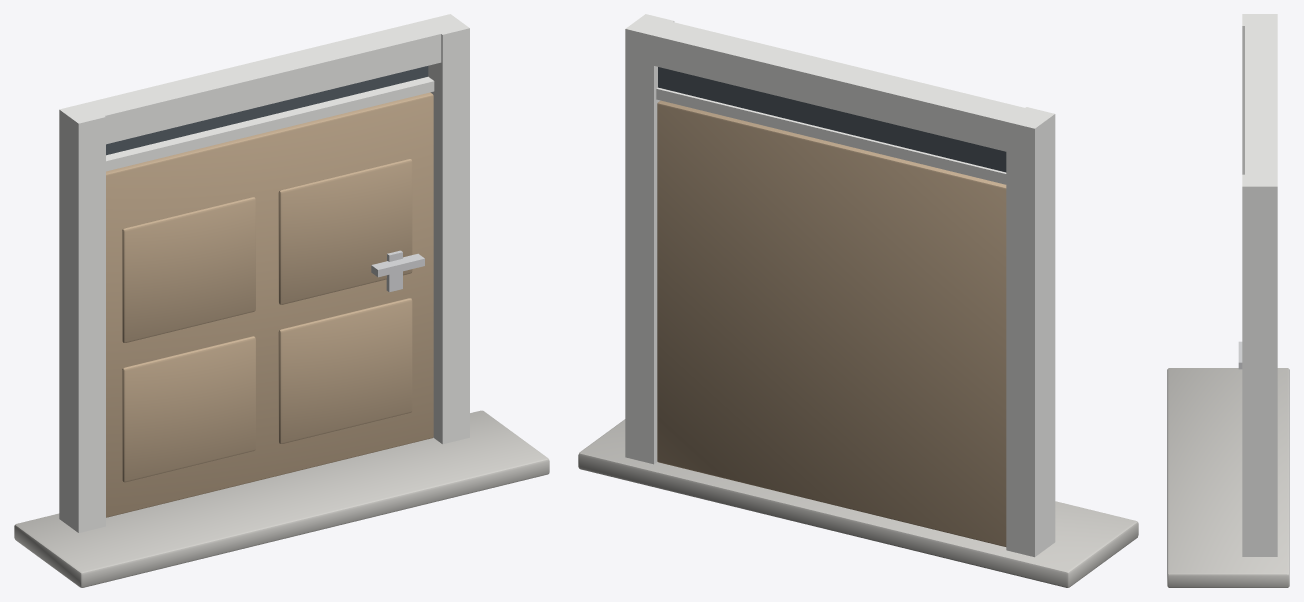
Rendered from porte.glb.
3 renders of one model, left to right at view 1: azimuth 30°, elevation 25°; view 2: azimuth 150°, elevation 25°; view 3: azimuth 270°, elevation 25°, orthographic. The views are drawn at different scales.
Visible parts, largest first — view 1: porte; view 2: porte; view 3: porte.
Part boxes in pixels (box(x1,y1,x2,y2)): porte: box(14, 14, 549, 587); porte: box(578, 14, 1138, 587); porte: box(1167, 14, 1289, 587).
Size of the model in its own units: 1.2 by 1.04 by 0.3.
